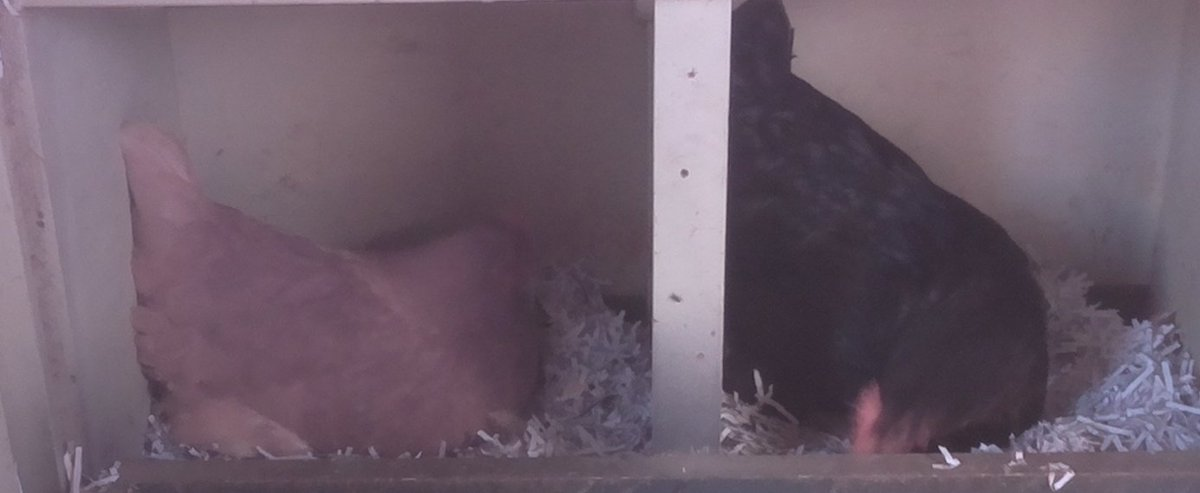hen: (118, 126, 556, 455), (730, 28, 1055, 451)
